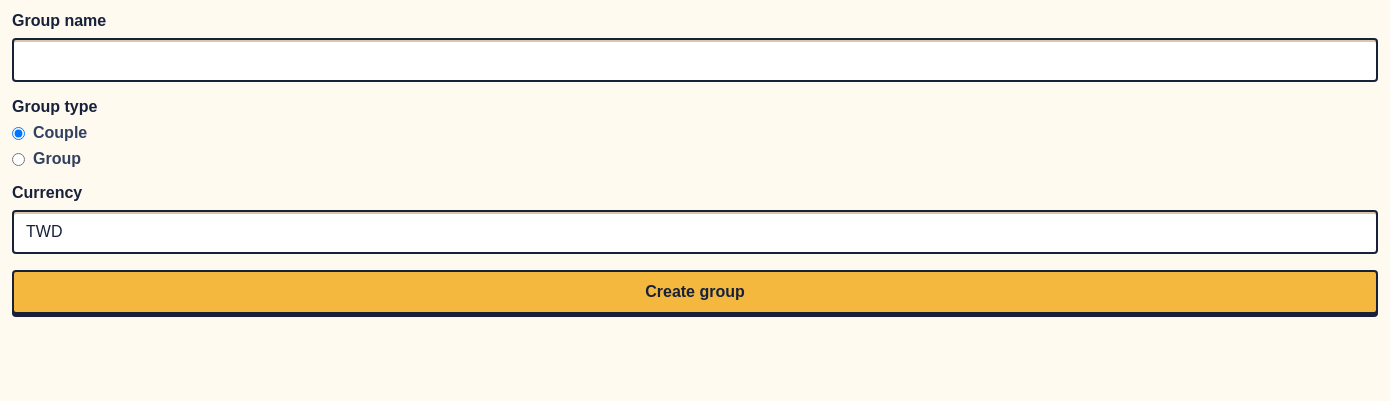
Test: GroupForm › keeps form values and shows a session-expired error when refresh is rejected
Type "我們的生活基金" into the field labelled "Group name" at point(695, 60), box top-left (12, 38), bottom-right (1378, 82)
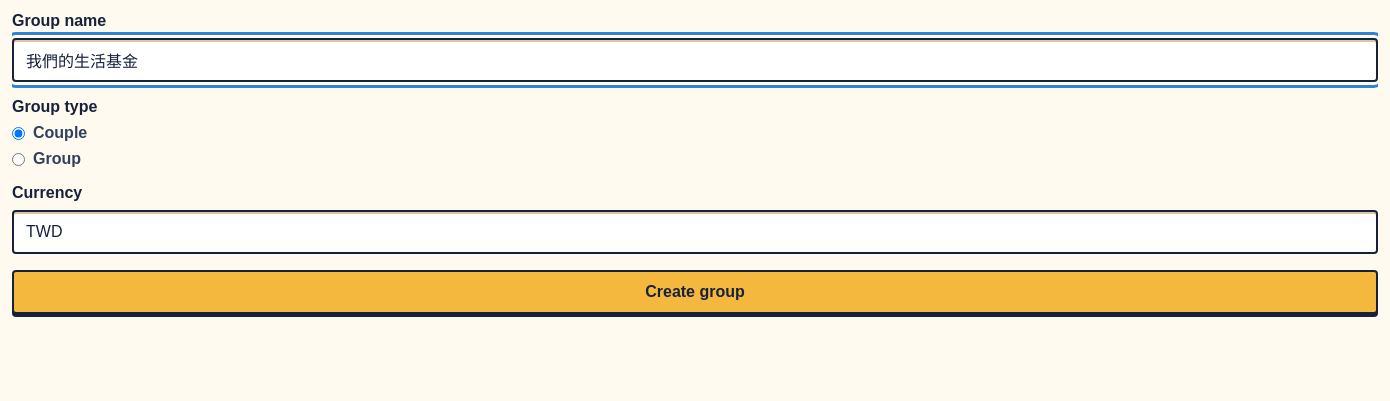
Click the button "Create group" at point(695, 292), box top-left (12, 270), bottom-right (1378, 314)
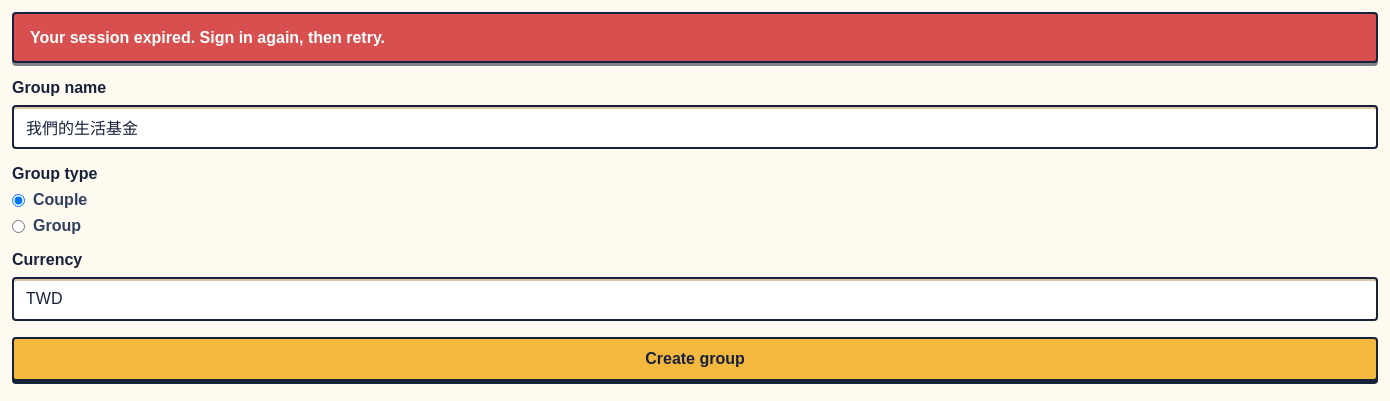
Expected: the message reads "Your session expired. Sign in again, then retry.", top-left (30, 29), bottom-right (385, 46)
